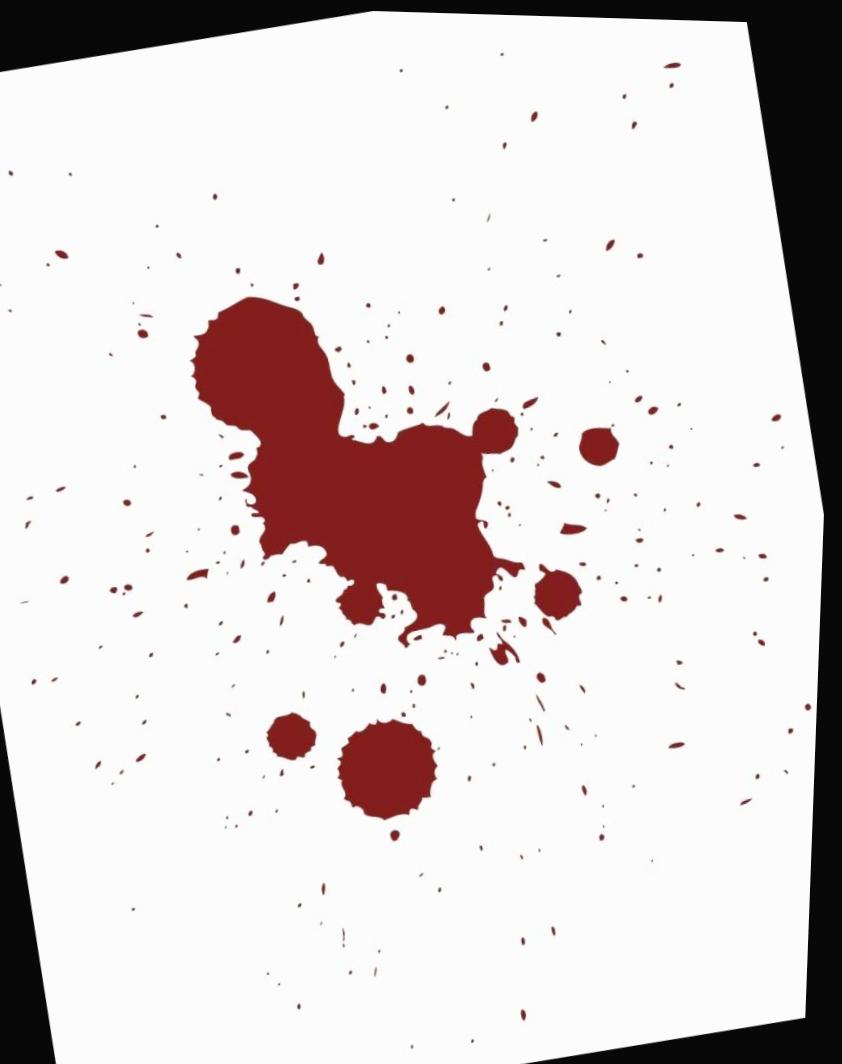Fire: (191, 295, 529, 646), (341, 716, 444, 818), (538, 560, 586, 617), (271, 710, 322, 759), (581, 423, 622, 462)
